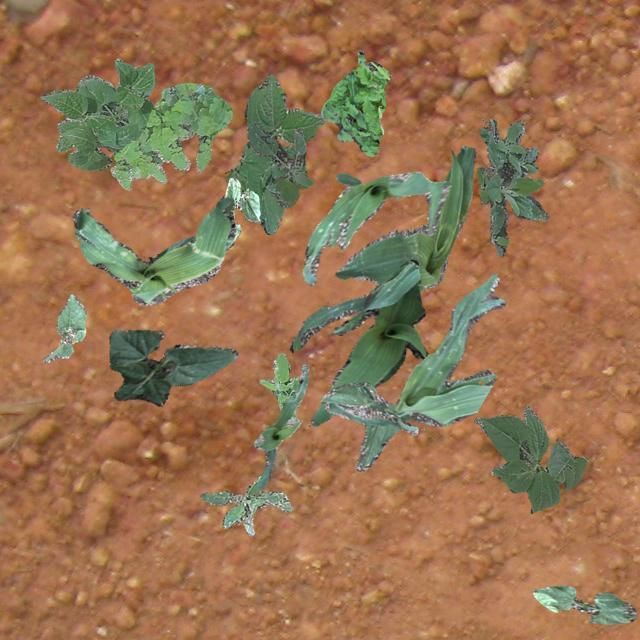crop: (288, 144, 474, 352), (324, 274, 504, 434), (309, 260, 426, 424), (72, 194, 235, 304), (302, 170, 449, 284), (40, 58, 162, 170), (474, 405, 586, 513), (108, 328, 236, 404), (252, 362, 308, 488), (320, 382, 398, 471), (532, 584, 634, 624), (41, 294, 86, 362), (224, 177, 260, 250)
weed: (226, 74, 324, 234), (110, 82, 232, 188), (476, 117, 548, 255), (320, 50, 390, 156), (246, 120, 312, 207), (200, 476, 292, 534), (258, 352, 298, 408)
